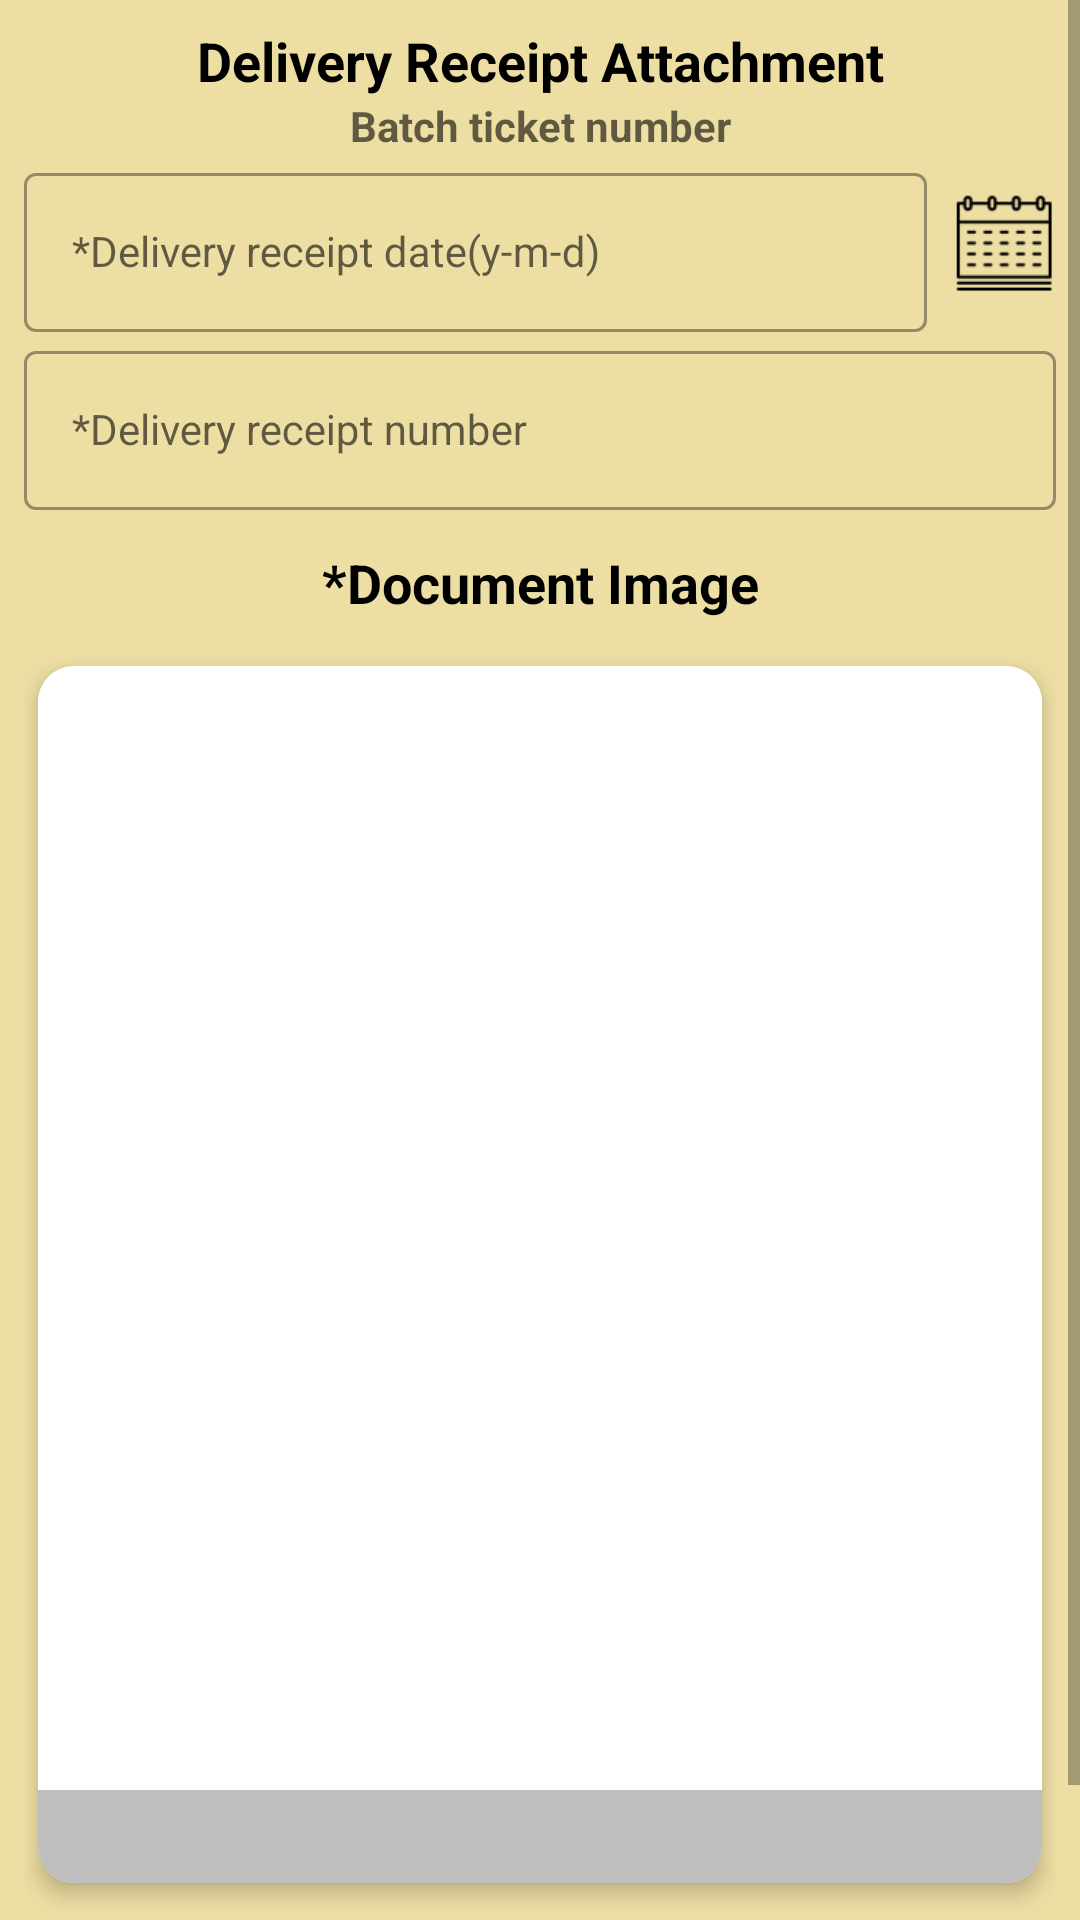

Named icons in this screenshot (1080px×1920px) and their centers, (x=x, y=y):
calendar: (x=1004, y=243)
